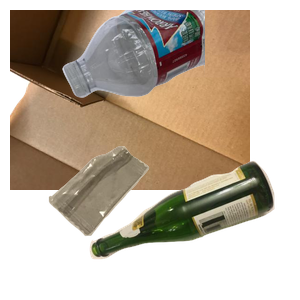cardboard: (10, 10, 250, 190)
glass: (87, 158, 300, 300)
plastic: (60, 10, 300, 100)
trash: (46, 144, 188, 300)
